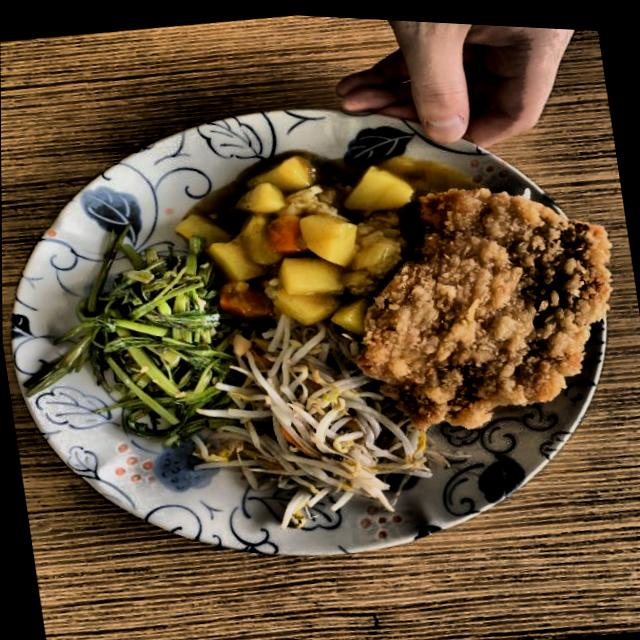Food: (382, 202, 612, 412), (197, 152, 404, 316), (233, 307, 402, 503), (70, 253, 235, 419)
